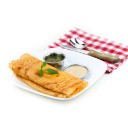dosa: (12, 53, 86, 97)
